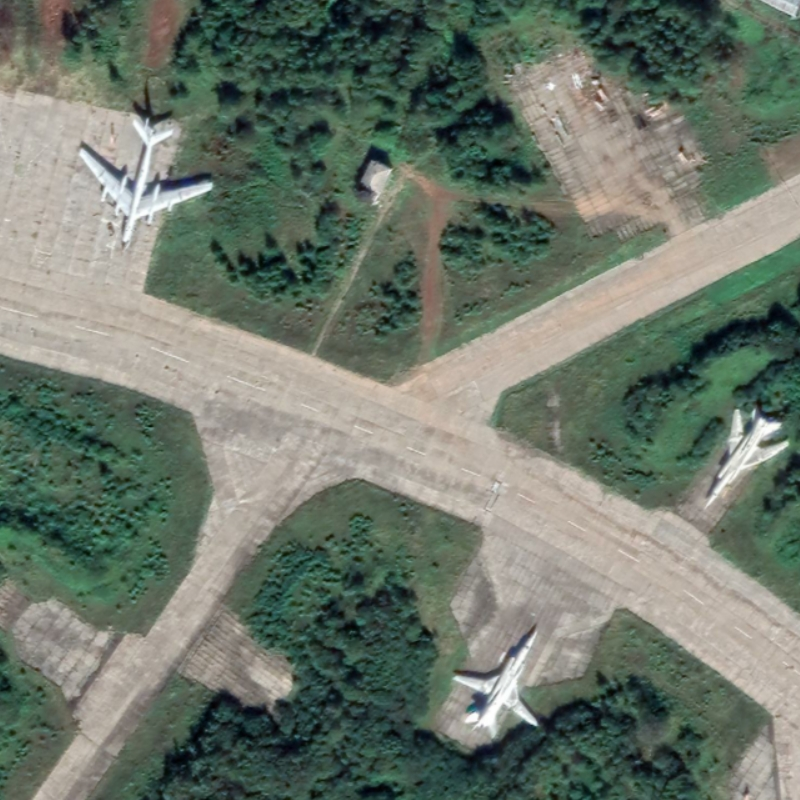A12: (449, 622, 542, 744), (701, 406, 791, 514)
A17: (74, 115, 215, 251)
